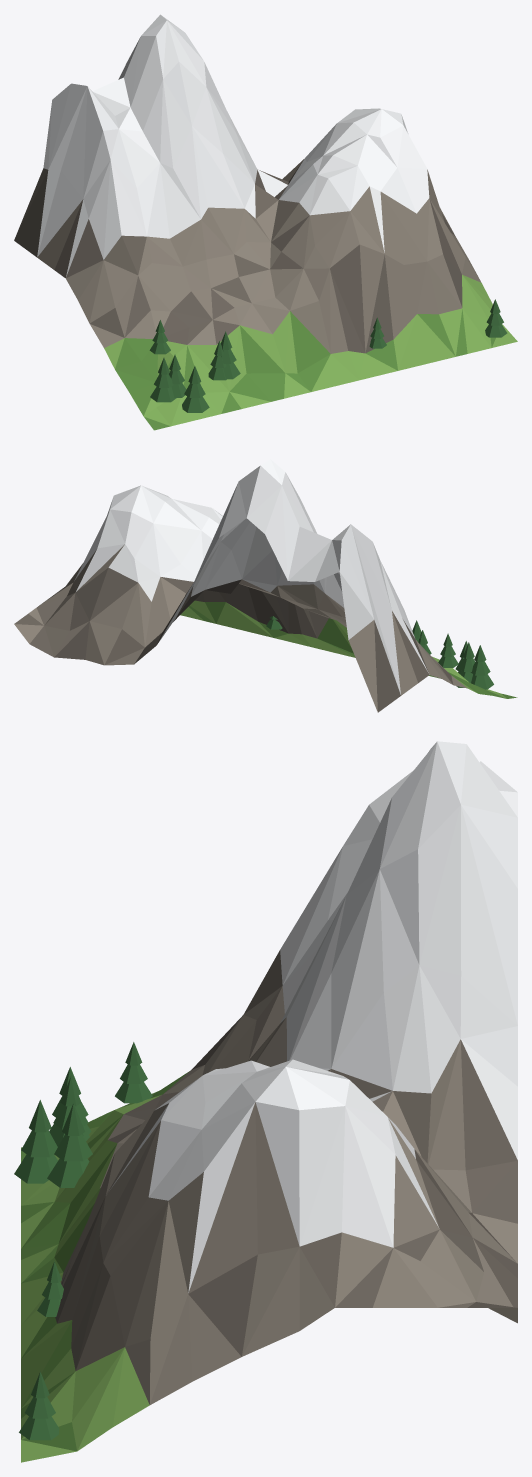
File: mountains-c.glb
3 views of the same model, one above another, from view 1: azimuth 30°, elevation 25°; view 2: azimuth 150°, elevation 25°; view 3: azimuth 270°, elevation 25° (orthographic). The views are drawn at different scales.
Visible parts, largest first — view 1: mountains-c; view 2: mountains-c; view 3: mountains-c.
Boxes of the visible parts, x1,y1,x2,y2 form: mountains-c: (14,14,517,430); mountains-c: (14,459,517,712); mountains-c: (14,741,517,1462).
Size of the model in its own units: 24 by 18.44 by 16.23.
